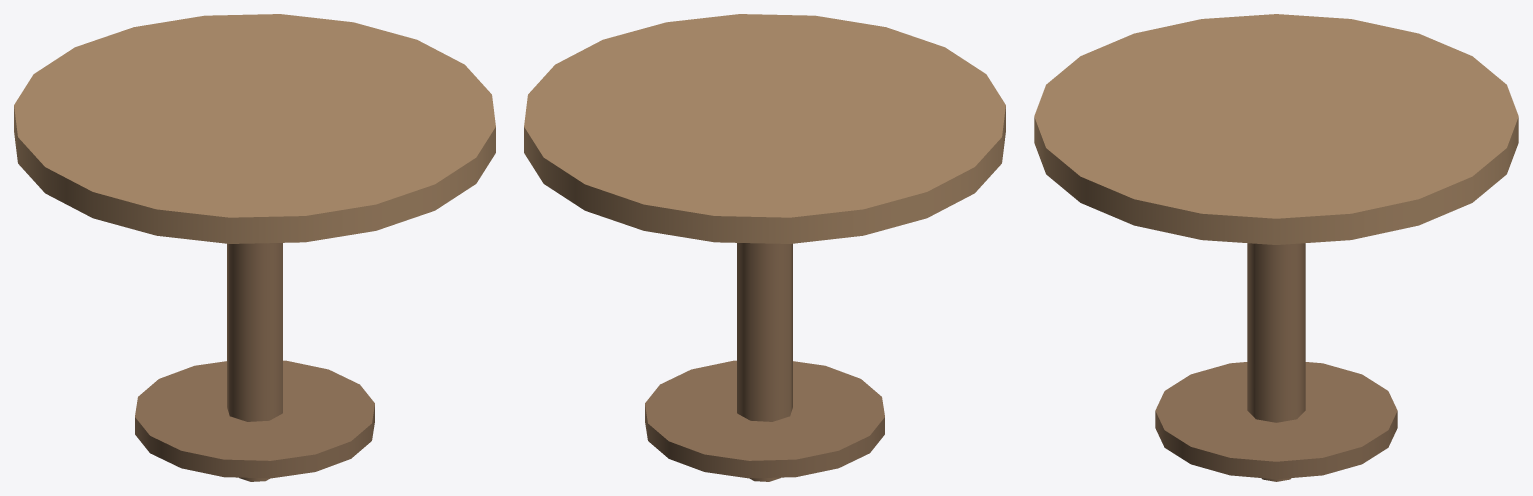
The model's file is kitchen_table.glb.
The picture shows the model from 3 angles, left to right: view 1: azimuth 30°, elevation 25°; view 2: azimuth 150°, elevation 25°; view 3: azimuth 270°, elevation 25°; orthographic projection.
Parts seen in each view (by area): view 1: top, base, pedestal; view 2: top, base, pedestal; view 3: top, base, pedestal.
Boxes of the visible parts, x1,y1,x2,y2 form: top: [14, 14, 495, 243]; base: [135, 360, 374, 478]; pedestal: [227, 243, 282, 421]; top: [524, 14, 1005, 243]; base: [645, 360, 884, 478]; pedestal: [737, 243, 792, 421]; top: [1034, 14, 1518, 244]; base: [1155, 362, 1397, 479]; pedestal: [1247, 243, 1305, 422].
Size of the model in its own units: 1 by 0.73 by 1.
